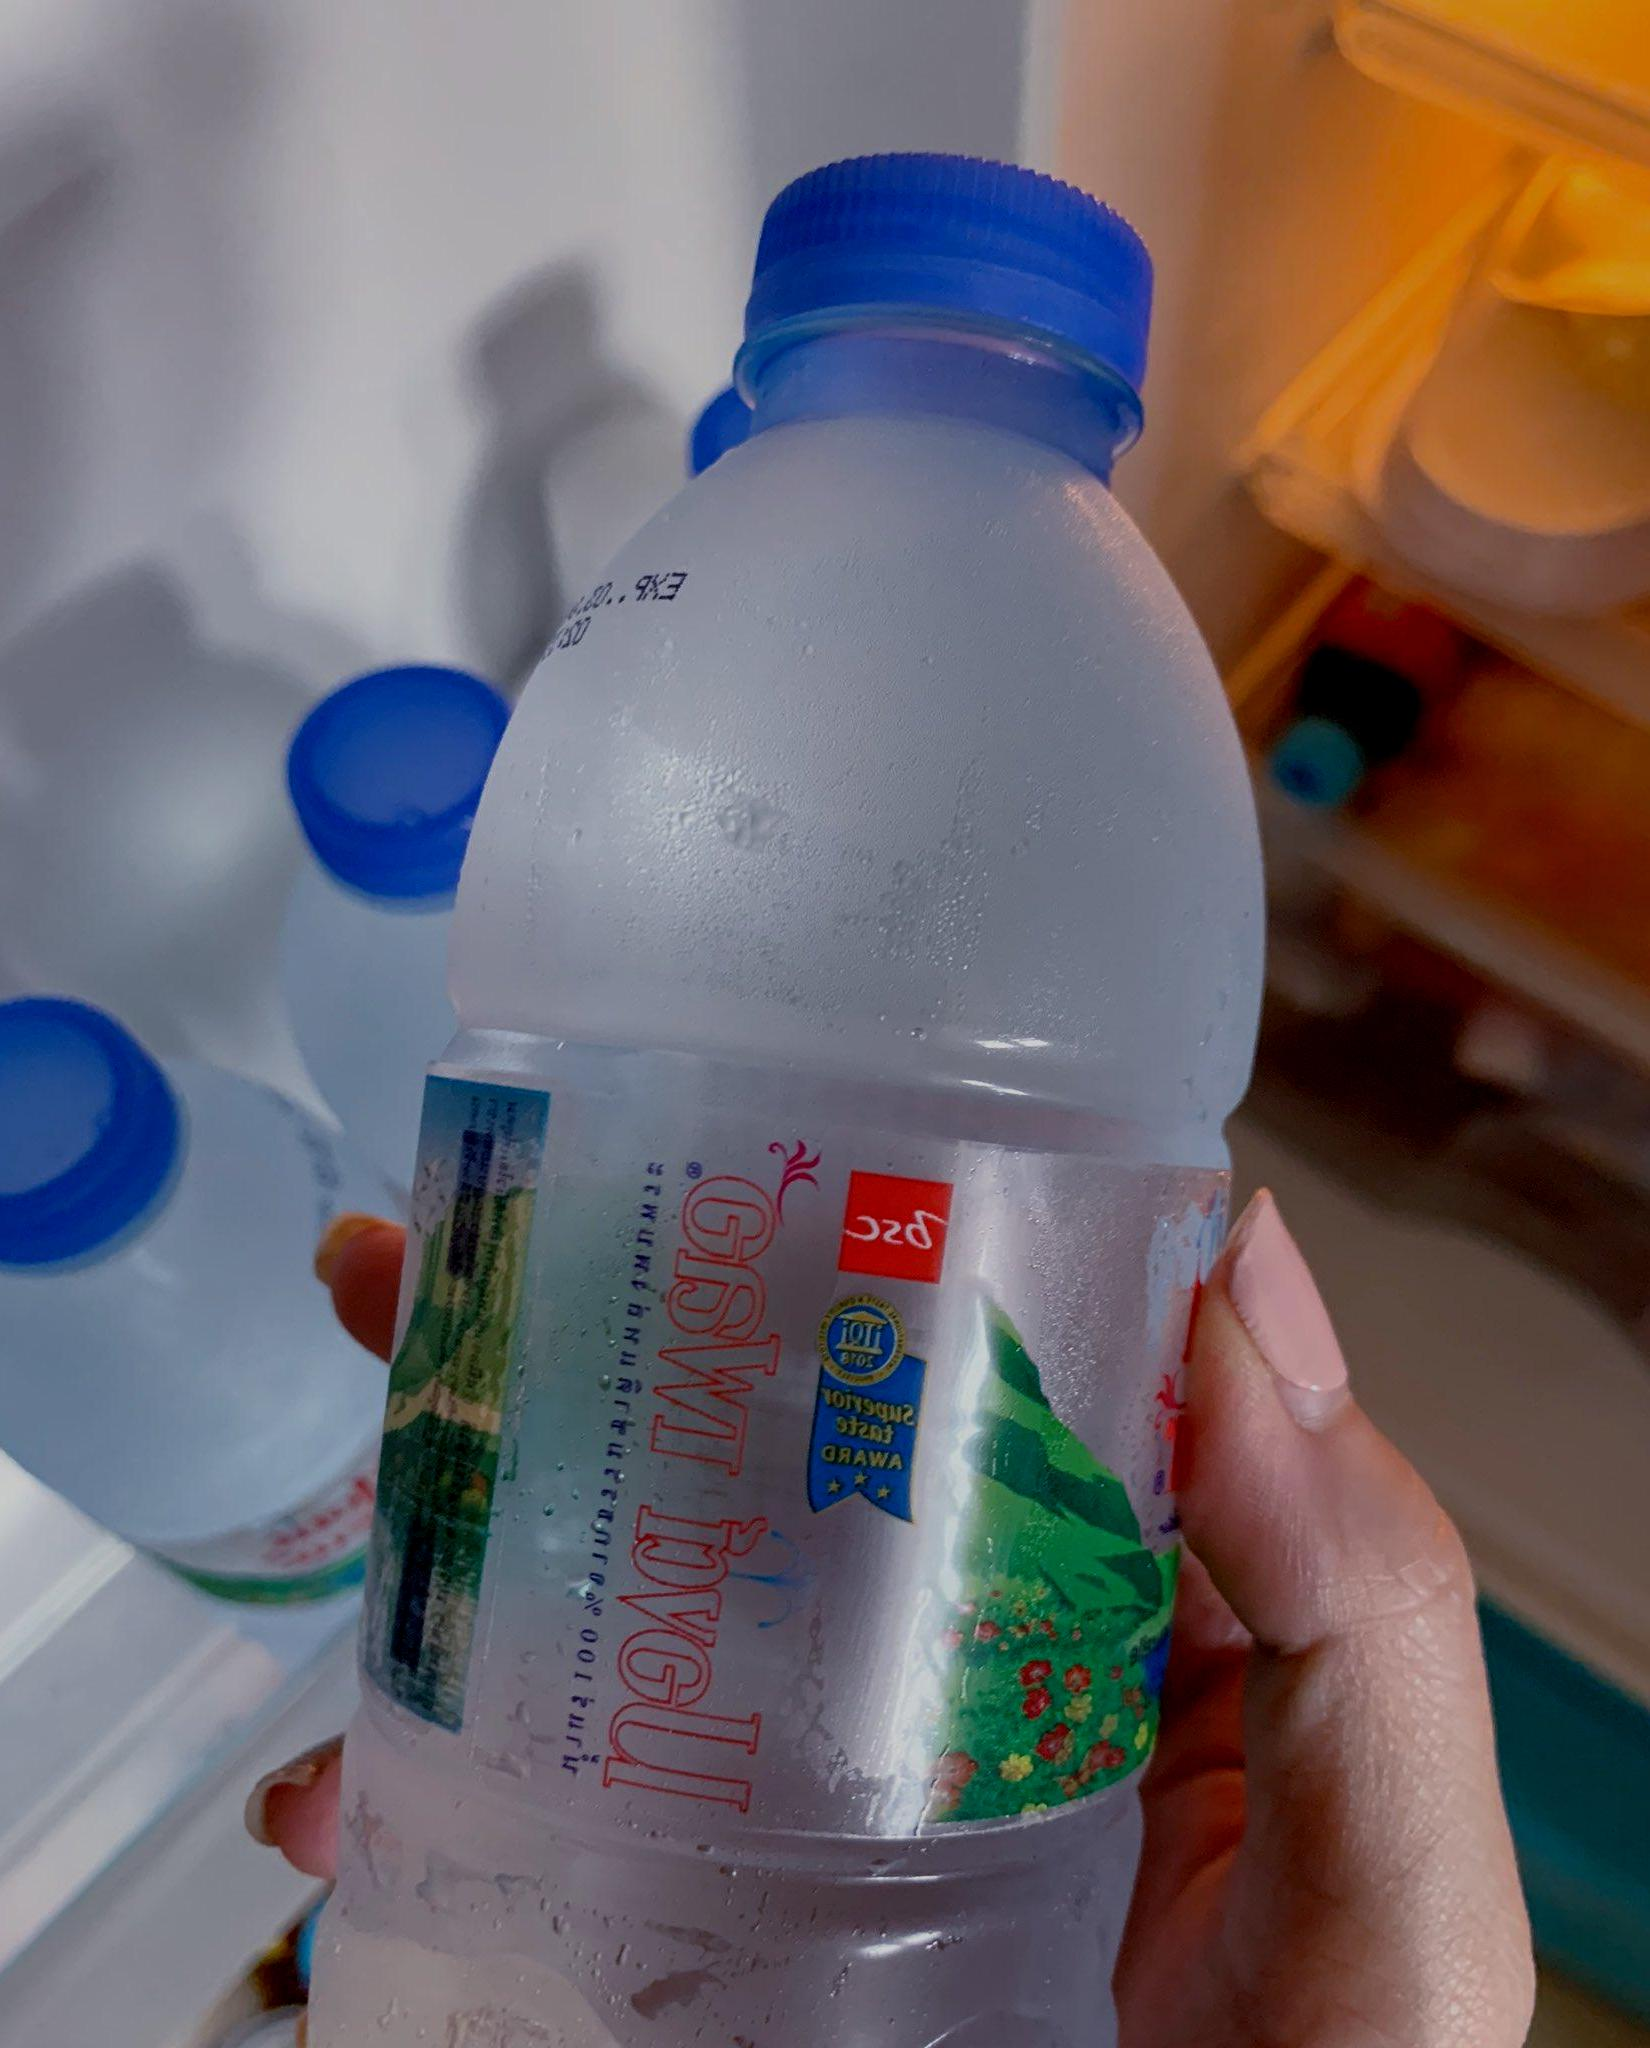bottle: (270, 111, 1313, 2048), (238, 580, 685, 1863), (0, 956, 533, 1826)
